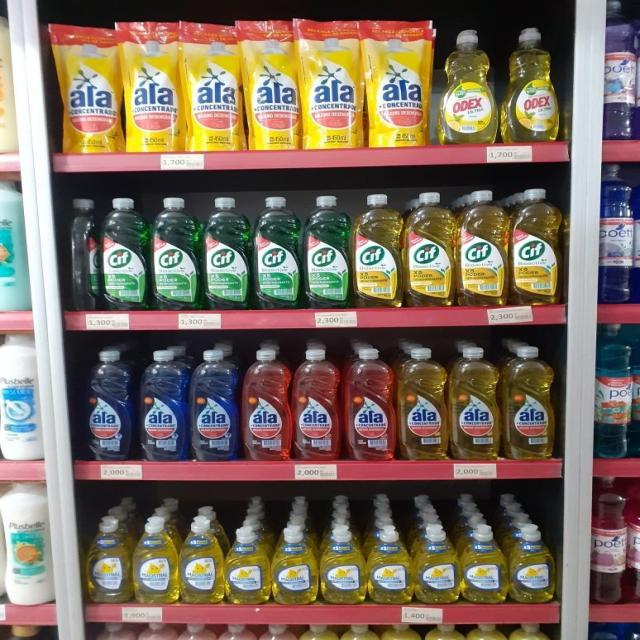ala_conc_amarillo: (503, 344, 557, 460), (398, 344, 448, 461), (450, 344, 500, 460)
ala_conc_azul: (82, 348, 134, 461), (138, 348, 188, 462), (190, 347, 238, 462)
ala_conc_rojo: (344, 346, 396, 461), (292, 346, 342, 462), (242, 345, 291, 462)
ala_crem_amarillo: (507, 622, 551, 640), (381, 622, 422, 640), (466, 622, 505, 640), (424, 623, 465, 640), (300, 623, 338, 640), (340, 624, 379, 640)
ala_sachet_amarillo: (366, 19, 432, 148), (60, 23, 122, 154), (302, 20, 362, 149), (184, 22, 243, 152), (124, 21, 182, 152), (246, 20, 299, 150)
cif_conc_bot_amarilla: (510, 186, 562, 304), (458, 188, 508, 306), (405, 191, 454, 307), (353, 193, 402, 308)
cif_conc_botella_verde: (151, 197, 200, 311), (203, 196, 251, 311), (100, 197, 148, 312), (304, 194, 351, 309), (253, 196, 300, 310)
heroe: (96, 621, 136, 640), (176, 622, 216, 640), (138, 621, 175, 640), (217, 623, 258, 640), (258, 623, 298, 640)
magistral_con_amarillo: (85, 516, 130, 604), (133, 516, 178, 604), (271, 525, 318, 605), (509, 525, 556, 604), (180, 518, 223, 604), (320, 525, 365, 605), (367, 525, 412, 605), (461, 524, 506, 604), (414, 524, 458, 604), (225, 526, 269, 605)
odex: (501, 26, 562, 142), (438, 28, 498, 144)
